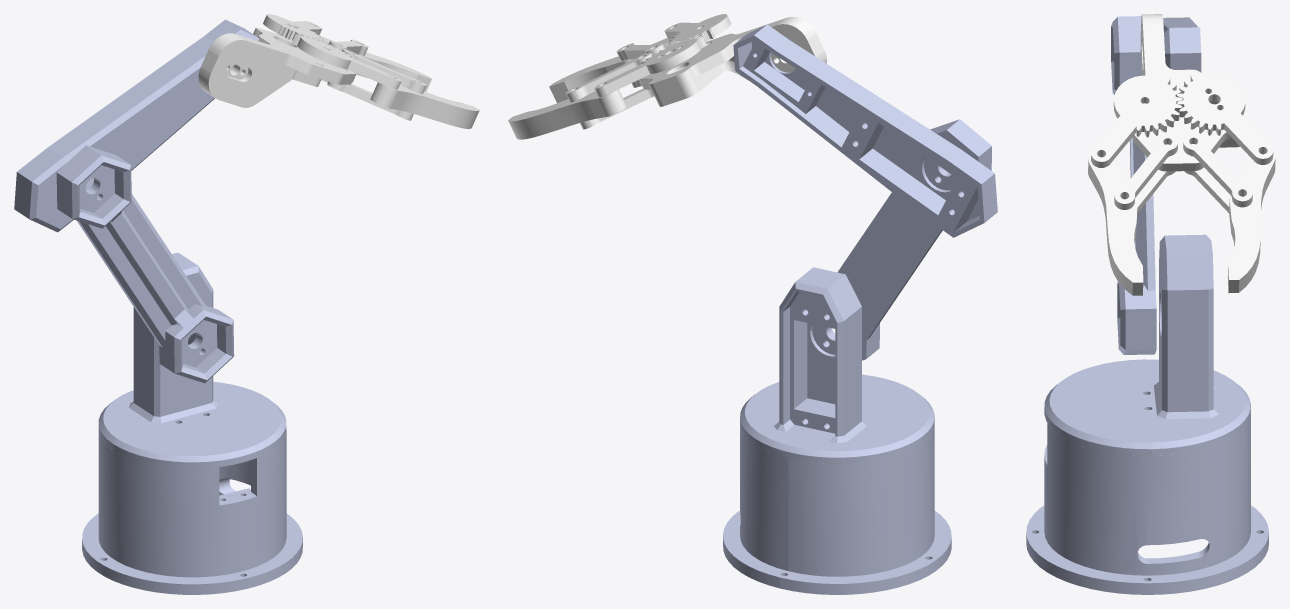
File: robot.gltf
The picture shows the model from 3 angles, left to right: view 1: azimuth 30°, elevation 25°; view 2: azimuth 150°, elevation 25°; view 3: azimuth 270°, elevation 25°; orthographic projection. The views are drawn at different scales.
Parts seen in each view (by area): view 1: Cylinder Base Isai_node, Arm1 Isai 2.0_node, Robot Arm Base 2 Isai_node, Arm2 Isai_node, nodes[11], nodes[14], nodes[6], nodes[13], nodes[9], nodes[7], nodes[12]; view 2: Cylinder Base Isai_node, Robot Arm Base 2 Isai_node, Arm2 Isai_node, Arm1 Isai 2.0_node, nodes[11], nodes[9], nodes[13], nodes[14], nodes[6], nodes[8]; view 3: Cylinder Base Isai_node, Robot Arm Base 2 Isai_node, Arm1 Isai 2.0_node, nodes[13], nodes[6], nodes[11], nodes[14], nodes[9], Arm2 Isai_node, nodes[8], nodes[7], nodes[10] (+1 smaller).
Part boxes in pixels (<box>): Cylinder Base Isai_node: <box>82,430,302,594</box>; Arm1 Isai 2.0_node: <box>56,145,234,383</box>; Robot Arm Base 2 Isai_node: <box>98,252,286,468</box>; Arm2 Isai_node: <box>14,19,259,232</box>; nodes[11]: <box>198,27,355,107</box>; nodes[14]: <box>370,82,479,128</box>; nodes[6]: <box>292,34,401,89</box>; nodes[13]: <box>263,14,323,41</box>; nodes[9]: <box>321,36,431,91</box>; nodes[7]: <box>342,49,426,94</box>; nodes[12]: <box>327,81,413,120</box>; Cylinder Base Isai_node: <box>723,423,951,594</box>; Robot Arm Base 2 Isai_node: <box>740,267,934,464</box>; Arm2 Isai_node: <box>733,24,997,237</box>; Arm1 Isai 2.0_node: <box>812,119,991,360</box>; nodes[11]: <box>639,16,827,106</box>; nodes[9]: <box>508,89,626,139</box>; nodes[13]: <box>594,35,706,97</box>; nodes[14]: <box>549,38,669,102</box>; nodes[6]: <box>664,14,731,46</box>; nodes[8]: <box>566,52,652,102</box>; Cylinder Base Isai_node: <box>1026,412,1268,594</box>; Robot Arm Base 2 Isai_node: <box>1044,234,1250,456</box>; Arm1 Isai 2.0_node: <box>1111,16,1156,354</box>; nodes[13]: <box>1177,74,1273,164</box>; nodes[6]: <box>1091,75,1182,167</box>; nodes[11]: <box>1132,14,1246,171</box>; nodes[14]: <box>1088,153,1143,295</box>; nodes[9]: <box>1227,151,1275,293</box>; Arm2 Isai_node: <box>1163,17,1201,72</box>; nodes[8]: <box>1183,133,1252,207</box>; nodes[7]: <box>1114,133,1177,209</box>; nodes[10]: <box>1184,167,1230,212</box>.
Size of the model in its own units: 217 by 234 by 96.57.
